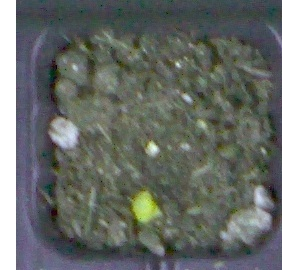chilli seed: (131, 190, 161, 222)
